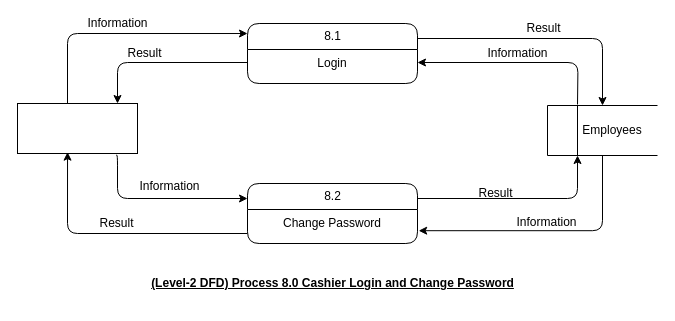
Image size: 675x321. Some labels were removed from this diagram. The shapes that lost their labels are listed below. From the top down, each one's box as (x1, y1, x2, y2) in pixels, then its label:
(16, 102, 138, 154): Cashier
(546, 104, 658, 156): D8
